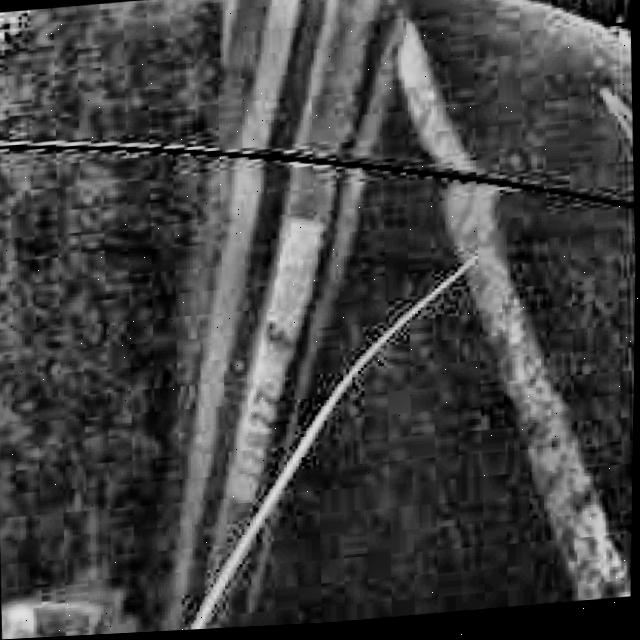door_scratch: (173, 256, 498, 631)
